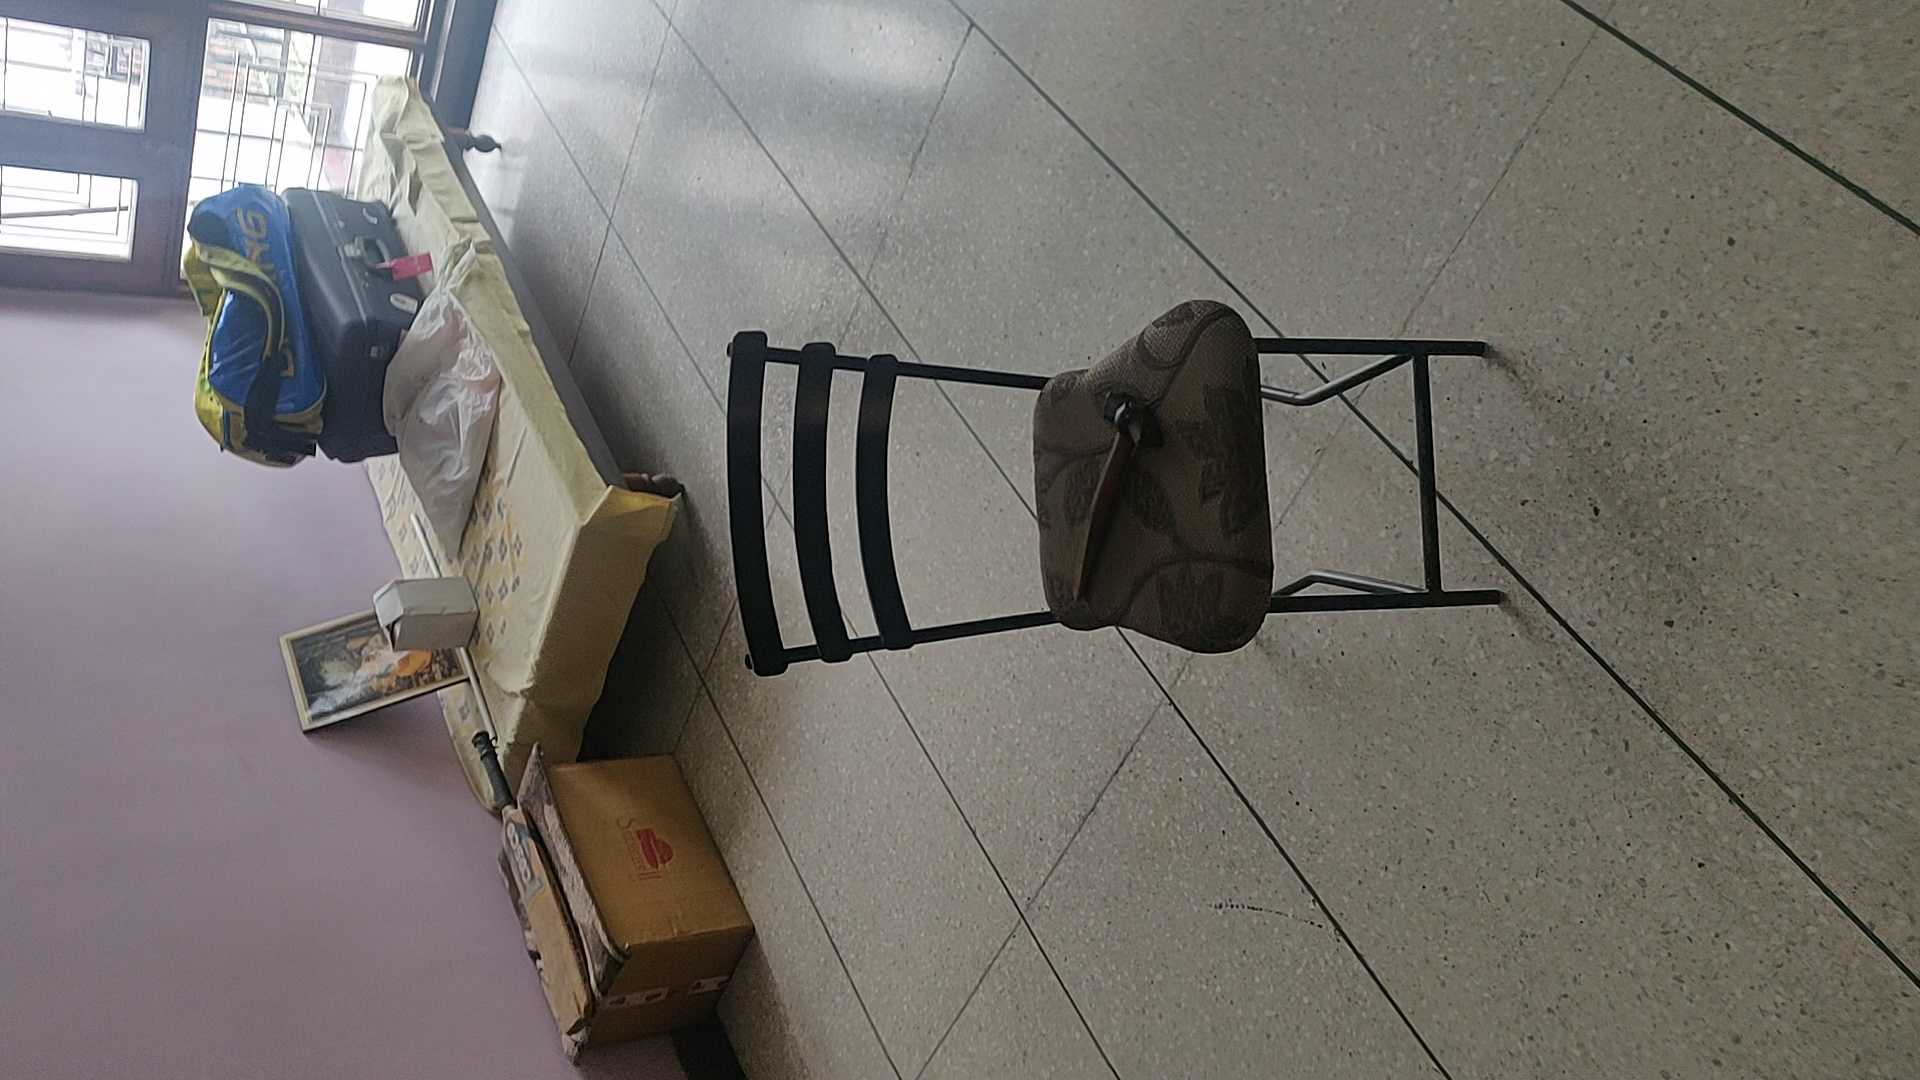hammer: (1068, 384, 1162, 599)
